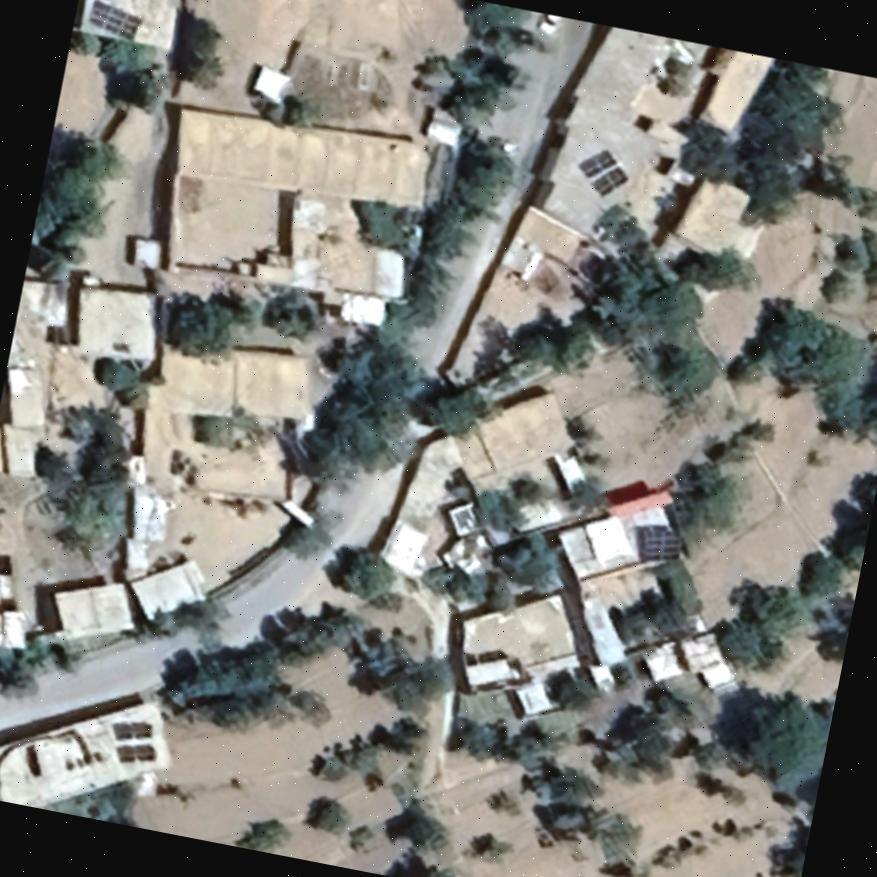Solarpanel: (570, 142, 628, 196), (634, 516, 688, 568), (84, 0, 143, 40), (110, 716, 156, 742), (111, 743, 154, 764)
